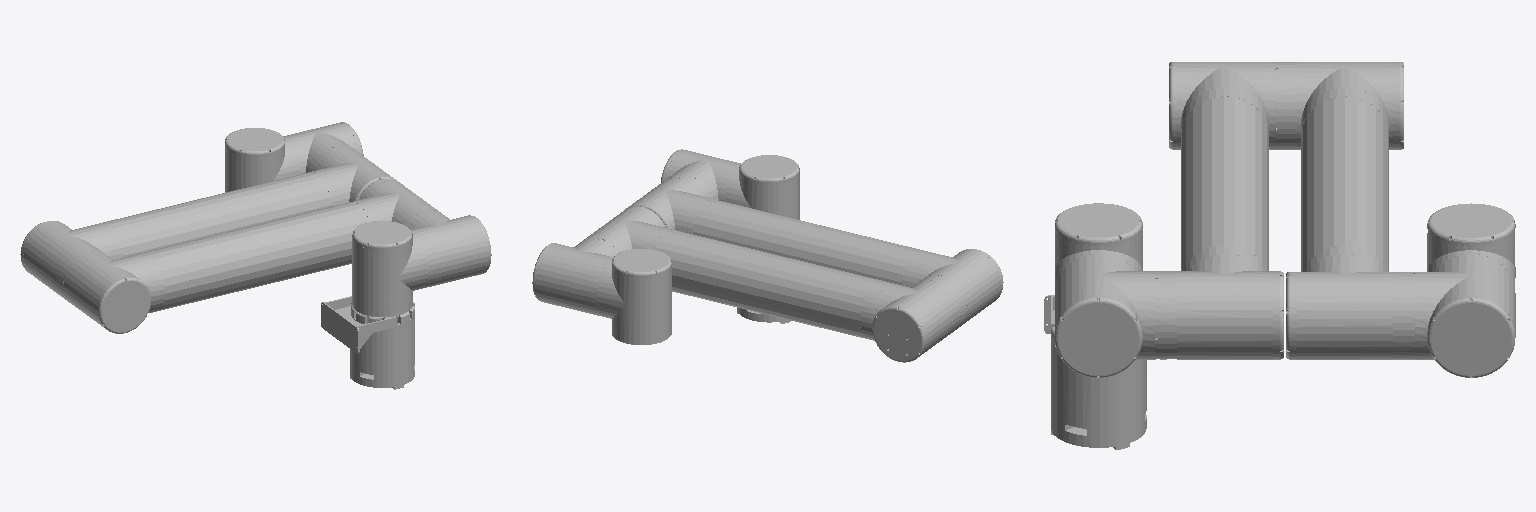
URDF robot description (qt6_ros2_template):
<?xml version="1.0" encoding="utf-8"?>
<!-- This URDF was automatically created by SolidWorks to URDF Exporter! Originally created by [author] ([email redacted]) 
     Commit Version: 1.6.0-1-g15f4949  Build Version: 1.6.7594.29634
     For more information, please see http://wiki.ros.org/sw_urdf_exporter -->
<robot
  name="qt6_ros2_template">
  <link
    name="base_link">
    
    <visual>
      <origin
        xyz="0 0 0"
        rpy="0 0 0" />
      <geometry>
        <mesh
          filename="package://qt6_ros2_template/meshes/base_link.STL" />
      </geometry>
      <material
        name="">
        <color
          rgba="0.792156862745098 0.819607843137255 0.933333333333333 1" />
      </material>
    </visual>
    <collision>
      <origin
        xyz="0 0 0"
        rpy="0 0 0" />
      <geometry>
        <mesh
          filename="package://qt6_ros2_template/meshes/base_link.STL" />
      </geometry>
    </collision>
  </link>
  <link
    name="link_1">
    <inertial>
      <origin
        xyz="-0.0105310918325694 4.90582989232102E-08 -0.00292754211686709"
        rpy="0 0 0" />
      <mass
        value="0.288718424431375" />
      <inertia
        ixx="0.000830012890791525"
        ixy="-9.50020283876626E-09"
        ixz="3.49771961840243E-05"
        iyy="0.000865113647682648"
        iyz="9.45868198457207E-09"
        izz="0.000861024544001763" />
    </inertial>
    <visual>
      <origin
        xyz="0 0 0"
        rpy="0 0 0" />
      <geometry>
        <mesh
          filename="package://qt6_ros2_template/meshes/link_1.STL" />
      </geometry>
      <material
        name="">
        <color
          rgba="0.752941176470588 0.752941176470588 0.752941176470588 1" />
      </material>
    </visual>
    <collision>
      <origin
        xyz="0 0 0"
        rpy="0 0 0" />
      <geometry>
        <mesh
          filename="package://qt6_ros2_template/meshes/link_1.STL" />
      </geometry>
    </collision>
  </link>
  <joint
    name="joint_1"
    type="continuous">
    <origin
      xyz="0 0 0.215"
      rpy="0 0 3.14159265358979" />
    <parent
      link="base_link" />
    <child
      link="link_1" />
    <axis
      xyz="0 0 -1" />
    <limit
      lower="-2.84"
      upper="2.84"
      effort="30.0"
      velocity="3.0" />
    <hardware id="0" type="driver">
            <limit lower="-2.84" upper="2.84"  vel="3.0" acc="10.0" jerk="150.0" effort="30.0"/>
            <transform ratio="1.0" offset_pos_cnt="0" cnt_per_unit="20860.757" torque_per_unit="1.0"
                       user_unit_name="rad"/>
            
            <inputs name="Inputs">
                <status_word>Status word</status_word>
                <position_actual_value>Actual motor position</position_actual_value>
                <velocity_actual_value>Actual motor velocity</velocity_actual_value>
                <torque_actual_value>Torque actual value</torque_actual_value>
                
            </inputs>
            <outputs name="Outputs">
                <control_word>Control word</control_word>
                
                <target_position>Profile target position</target_position>
               
            </outputs>        
        </hardware>
  </joint>
  <link
    name="link_2">
    <inertial>
      <origin
        xyz="0.00818837377120979 4.13023930889711E-08 -0.00133142949197695"
        rpy="0 0 0" />
      <mass
        value="0.250443795772637" />
      <inertia
        ixx="0.00067723075039654"
        ixy="-1.04853194027878E-09"
        ixz="1.6666286825051E-05"
        iyy="0.00072875319290561"
        iyz="3.23005364512059E-10"
        izz="0.000761069738309094" />
    </inertial>
    <visual>
      <origin
        xyz="0 0 0"
        rpy="0 0 0" />
      <geometry>
        <mesh
          filename="package://qt6_ros2_template/meshes/link_2.STL" />
      </geometry>
      <material
        name="">
        <color
          rgba="0.752941176470588 0.752941176470588 0.752941176470588 1" />
      </material>
    </visual>
    <collision>
      <origin
        xyz="0 0 0"
        rpy="0 0 0" />
      <geometry>
        <mesh
          filename="package://qt6_ros2_template/meshes/link_2.STL" />
      </geometry>
    </collision>
  </link>
  <joint
    name="joint_2"
    type="continuous">
    <origin
      xyz="-0.13 0 0"
      rpy="1.5707963267949 0 1.5707963267949" />
    <parent
      link="link_1" />
    <child
      link="link_2" />
    <axis
      xyz="0 0 1" />
    <limit
      lower="-2.84"
      upper="2.84"
      effort="30.0"
      velocity="3.0" />
    <hardware id="1" type="driver">
            <limit lower="-2.84" upper="2.84"  vel="3.0" acc="10.0" jerk="150.0" effort="30.0"/>
            <transform ratio="1.0" offset_pos_cnt="0" cnt_per_unit="20860.757" torque_per_unit="1.0"
                       user_unit_name="rad"/>
            
            <inputs name="Inputs">
                <status_word>Status word</status_word>
                <position_actual_value>Actual motor position</position_actual_value>
                <velocity_actual_value>Actual motor velocity</velocity_actual_value>
                <torque_actual_value>Torque actual value</torque_actual_value>
                
            </inputs>
            <outputs name="Outputs">
                <control_word>Control word</control_word>
                
                <target_position>Profile target position</target_position>
               
            </outputs>        
        </hardware>
  </joint>
  <link
    name="link_3">
    <inertial>
      <origin
        xyz="0.309749993285017 -6.34481429508185E-05 -6.27027735289332E-11"
        rpy="3.1415926 0 0" />
      <mass
        value="1.47702556998399" />
      <inertia
        ixx="0.0032547793142003"
        ixy="8.70740111090491E-07"
        ixz="4.49345838154661E-06"
        iyy="0.00741753840774171"
        iyz="-2.86640866310431E-09"
        izz="0.00774922897440421" />
    </inertial>
    <visual>
      <origin
        xyz="0 0 0"
        rpy="3.1415926 0 0" />
      <geometry>
        <mesh
          filename="package://qt6_ros2_template/meshes/link_3.STL" />
      </geometry>
      <material
        name="">
        <color
          rgba="0.752941176470588 0.752941176470588 0.752941176470588 1" />
      </material>
    </visual>
    <collision>
      <origin
        xyz="0 0 0"
        rpy="0 0 0" />
      <geometry>
        <mesh
          filename="package://qt6_ros2_template/meshes/link_3.STL" />
      </geometry>
    </collision>
  </link>
  <joint
    name="joint_3"
    type="continuous">
    <origin
      xyz="0.1575 0 0"
      rpy="3.14159265358979 -1.5707963267949 0" />
    <parent
      link="link_2" />
    <child
      link="link_3" />
    <axis
      xyz="0 0 -1" />
    <limit
      lower="-2.84"
      upper="2.84"
      effort="30.0"
      velocity="3.0" />
    <hardware id="2" type="driver">
            <limit lower="-2.84" upper="2.84"  vel="3.0" acc="10.0" jerk="150.0" effort="30.0"/>
            <transform ratio="1.0" offset_pos_cnt="0" cnt_per_unit="20860.757" torque_per_unit="1.0"
                       user_unit_name="rad"/>
            
            <inputs name="Inputs">
                <status_word>Status word</status_word>
                <position_actual_value>Actual motor position</position_actual_value>
                <velocity_actual_value>Actual motor velocity</velocity_actual_value>
                <torque_actual_value>Torque actual value</torque_actual_value>
                
            </inputs>
            <outputs name="Outputs">
                <control_word>Control word</control_word>
                
                <target_position>Profile target position</target_position>
               
            </outputs>        
        </hardware>
  </joint>
  <link
    name="link_4">
    <inertial>
      <origin
        xyz="0.318229405631409 -6.61859662832304E-05 -0.00215365262817152"
        rpy="0 0 0" />
      <mass
        value="1.43716974653283" />
      <inertia
        ixx="0.00327489413788111"
        ixy="8.73093497517207E-07"
        ixz="7.72630910976572E-06"
        iyy="0.00743366696816357"
        iyz="-7.15451479019264E-09"
        izz="0.00761681273339886" />
    </inertial>
    <visual>
      <origin
        xyz="0 0 0"
        rpy="0 0 0" />
      <geometry>
        <mesh
          filename="package://qt6_ros2_template/meshes/link_4.STL" />
      </geometry>
      <material
        name="">
        <color
          rgba="0.752941176470588 0.752941176470588 0.752941176470588 1" />
      </material>
    </visual>
    <collision>
      <origin
        xyz="0 0 0"
        rpy="0 0 0" />
      <geometry>
        <mesh
          filename="package://qt6_ros2_template/meshes/link_4.STL" />
      </geometry>
    </collision>
  </link>
  <joint
    name="joint_4"
    type="continuous">
    <origin
      xyz="0.619499986380939 -0.000129900022494016 0.150000000000003"
      rpy="3.1415926 0 -3.14159265358979" />
    <parent
      link="link_3" />
    <child
      link="link_4" />
    <axis
      xyz="0 0 -1" />
    <limit
      lower="-2.84"
      upper="2.84"
      effort="30.0"
      velocity="3.0" />
    <hardware id="3" type="driver">
            <limit lower="-2.84" upper="2.84"  vel="3.0" acc="10.0" jerk="150.0" effort="30.0"/>
            <transform ratio="1.0" offset_pos_cnt="0" cnt_per_unit="20860.757" torque_per_unit="1.0"
                       user_unit_name="rad"/>
            
            <inputs name="Inputs">
                <status_word>Status word</status_word>
                <position_actual_value>Actual motor position</position_actual_value>
                <velocity_actual_value>Actual motor velocity</velocity_actual_value>
                <torque_actual_value>Torque actual value</torque_actual_value>
                
            </inputs>
            <outputs name="Outputs">
                <control_word>Control word</control_word>
                
                <target_position>Profile target position</target_position>
               
            </outputs>        
        </hardware>
  </joint>
  <link
    name="link_5">
    <inertial>
      <origin
        xyz="-0.00133141583270169 -3.81853762776441E-08 0.00818836736209475"
        rpy="0 0 0" />
      <mass
        value="0.250443770512977" />
      <inertia
        ixx="0.00076106953156274"
        ixy="8.23706019692372E-10"
        ixz="1.6666580405583E-05"
        iyy="0.000728752381486289"
        iyz="-1.40849553230592E-09"
        izz="0.000677231288568854" />
    </inertial>
    <visual>
      <origin
        xyz="0 0 0"
        rpy="0 0 0" />
      <geometry>
        <mesh
          filename="package://qt6_ros2_template/meshes/link_5.STL" />
      </geometry>
      <material
        name="">
        <color
          rgba="0.752941176470588 0.752941176470588 0.752941176470588 1" />
      </material>
    </visual>
    <collision>
      <origin
        xyz="0 0 0"
        rpy="0 0 0" />
      <geometry>
        <mesh
          filename="package://qt6_ros2_template/meshes/link_5.STL" />
      </geometry>
    </collision>
  </link>
  <joint
    name="joint_5"
    type="continuous">
    <origin
      xyz="0.619499986380938 -0.000129900022494141 -0.157499999999998"
      rpy="0 0 3.14159265358979" />
    <parent
      link="link_4" />
    <child
      link="link_5" />
    <axis
      xyz="0 0 1" />
    <limit
      lower="-2.84"
      upper="2.84"
      effort="30.0"
      velocity="3.0" />
    <hardware id="4" type="driver">
            <limit lower="-2.84" upper="2.84"  vel="3.0" acc="10.0" jerk="150.0" effort="30.0"/>
            <transform ratio="1.0" offset_pos_cnt="0" cnt_per_unit="20860.757" torque_per_unit="1.0"
                       user_unit_name="rad"/>
            
            <inputs name="Inputs">
                <status_word>Status word</status_word>
                <position_actual_value>Actual motor position</position_actual_value>
                <velocity_actual_value>Actual motor velocity</velocity_actual_value>
                <torque_actual_value>Torque actual value</torque_actual_value>
                
            </inputs>
            <outputs name="Outputs">
                <control_word>Control word</control_word>
                
                <target_position>Profile target position</target_position>
               
            </outputs>        
        </hardware>
  </joint>
  <link
    name="link_6">
    <inertial>
      <origin
        xyz="-0.00292754223166557 -4.90956496568273E-08 -0.0105310917966979"
        rpy="0 0 0" />
      <mass
        value="0.288718423955998" />
      <inertia
        ixx="0.00086102431956387"
        ixy="-1.13536731000631E-08"
        ixz="3.49764745595416E-05"
        iyy="0.000865110637037024"
        iyz="1.12159352723379E-08"
        izz="0.000830013622618324" />
    </inertial>
    <visual>
      <origin
        xyz="0 0 0"
        rpy="0 0 0" />
      <geometry>
        <mesh
          filename="package://qt6_ros2_template/meshes/link_6.STL" />
      </geometry>
      <material
        name="">
        <color
          rgba="0.752941176470588 0.752941176470588 0.752941176470588 1" />
      </material>
    </visual>
    <collision>
      <origin
        xyz="0 0 0"
        rpy="0 0 0" />
      <geometry>
        <mesh
          filename="package://qt6_ros2_template/meshes/link_6.STL" />
      </geometry>
    </collision>
  </link>
  <joint
    name="joint_6"
    type="continuous">
    <origin
      xyz="0.13 0 0"
      rpy="1.5707963267949 0 1.5707963267949" />
    <parent
      link="link_5" />
    <child
      link="link_6" />
    <axis
      xyz="0 0 1" />
    <limit
      lower="-2.84"
      upper="2.84"
      effort="30.0"
      velocity="3.0" />
    <hardware id="5" type="driver">
            <limit lower="-2.84" upper="2.84"  vel="3.0" acc="10.0" jerk="150.0" effort="30.0"/>
            <transform ratio="1.0" offset_pos_cnt="0" cnt_per_unit="20860.757" torque_per_unit="1.0"
                       user_unit_name="rad"/>
            
            <inputs name="Inputs">
                <status_word>Status word</status_word>
                <position_actual_value>Actual motor position</position_actual_value>
                <velocity_actual_value>Actual motor velocity</velocity_actual_value>
                <torque_actual_value>Torque actual value</torque_actual_value>
                
            </inputs>
            <outputs name="Outputs">
                <control_word>Control word</control_word>
                
                <target_position>Profile target position</target_position>
               
            </outputs>        
        </hardware>
  </joint>
  <link
    name="link_7">
    <inertial>
      <origin
        xyz="-0.0068887856214811 3.22463828096309E-05 0.0595052168539268"
        rpy="0 0 0" />
      <mass
        value="0.433804451599703" />
      <inertia
        ixx="0.000820767764486695"
        ixy="4.69231112836611E-07"
        ixz="-2.78882019105804E-05"
        iyy="0.000921013040979529"
        iyz="1.30517915627203E-07"
        izz="0.0011751907799355" />
    </inertial>
    <visual>
      <origin
        xyz="0 0 0"
        rpy="0 0 0" />
      <geometry>
        <mesh
          filename="package://qt6_ros2_template/meshes/link_7.STL" />
      </geometry>
      <material
        name="">
        <color
          rgba="0.752941176470588 0.752941176470588 0.752941176470588 1" />
      </material>
    </visual>
    <collision>
      <origin
        xyz="0 0 0"
        rpy="0 0 0" />
      <geometry>
        <mesh
          filename="package://qt6_ros2_template/meshes/link_7.STL" />
      </geometry>
    </collision>
  </link>
  <joint
    name="joint_7"
    type="continuous">
    <origin
      xyz="-0.215 0 0"
      rpy="0 1.5707963267949 0" />
    <parent
      link="link_6" />
    <child
      link="link_7" />
    <axis
      xyz="0 0 1" />
    <limit
      lower="-2.84"
      upper="2.84"
      effort="30.0"
      velocity="3.0" />
    <hardware id="6" type="driver">
            <limit lower="-2.84" upper="2.84"  vel="3.0" acc="10.0" jerk="150.0" effort="30.0"/>
            <transform ratio="1.0" offset_pos_cnt="0" cnt_per_unit="20860.757" torque_per_unit="1.0"
                       user_unit_name="rad"/>
            
            <inputs name="Inputs">
                <status_word>Status word</status_word>
                <position_actual_value>Actual motor position</position_actual_value>
                <velocity_actual_value>Actual motor velocity</velocity_actual_value>
                <torque_actual_value>Torque actual value</torque_actual_value>
                
            </inputs>
            <outputs name="Outputs">
                <control_word>Control word</control_word>
                
                <target_position>Profile target position</target_position>
               
            </outputs>        
        </hardware>
  </joint>
</robot>

--- Render facts (derived) ---
Views: 3 orthographic renders of the robot side by side, from view 1: azimuth 30°, elevation 25°; view 2: azimuth 150°, elevation 25°; view 3: azimuth 270°, elevation 25°.
Model qt6_ros2_template with 8 links and 7 joints (7 continuous), rooted at base_link, posed all joints at 0.
Links seen in each view (by area): view 1: link_4, link_3, link_6, link_7, link_5, link_1, link_2; view 2: link_3, link_4, link_1, link_2, link_6, link_5; view 3: link_3, link_4, link_2, link_5, link_7, link_1, link_6.
Link boxes in pixels (x1,y1,x2,y2): link_4: (64, 179, 440, 333); link_3: (20, 145, 396, 302); link_6: (352, 221, 427, 316); link_7: (321, 296, 414, 389); link_5: (405, 210, 491, 288); link_1: (225, 128, 300, 192); link_2: (283, 122, 363, 173); link_3: (584, 206, 967, 362); link_4: (626, 173, 1003, 323); link_1: (596, 249, 671, 344); link_2: (532, 238, 618, 315); link_6: (724, 155, 799, 219); link_5: (661, 149, 740, 201); link_3: (1275, 62, 1414, 359); link_4: (1155, 62, 1283, 359); link_2: (1415, 254, 1515, 377); link_5: (1055, 254, 1154, 377); link_7: (1044, 295, 1146, 449); link_1: (1427, 203, 1515, 284); link_6: (1055, 203, 1142, 285).
Size in the robot's own frame: 0.7445 by 0.5876 by 0.2903 metres.
7 mesh visuals loaded from 8 distinct referenced files (7 binary STL); not drawn: 1 (reference not matched to a file when rendering).